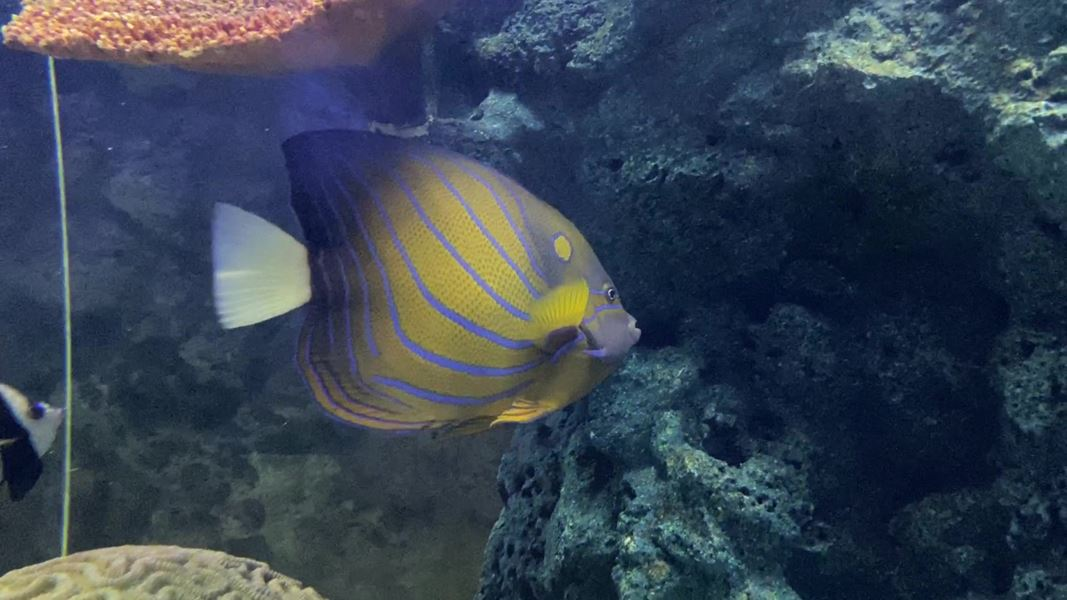Blue ring angelfish: (183, 114, 663, 454)
